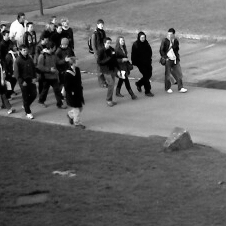person: (37, 42, 67, 109), (159, 27, 187, 93), (15, 44, 38, 119), (64, 56, 86, 129), (130, 30, 154, 95), (88, 19, 109, 87), (115, 35, 137, 99), (97, 37, 117, 106), (55, 37, 75, 99), (1, 59, 15, 114), (6, 41, 19, 100), (9, 11, 27, 44), (24, 21, 37, 59), (1, 31, 17, 60), (61, 17, 74, 49), (38, 21, 54, 43), (51, 23, 65, 43), (37, 34, 51, 52), (48, 15, 58, 27), (1, 23, 9, 32)
